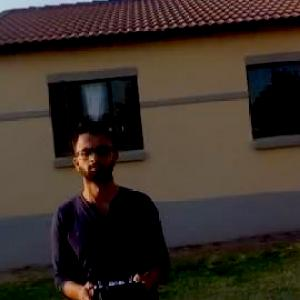follow: (43, 111, 174, 299)
